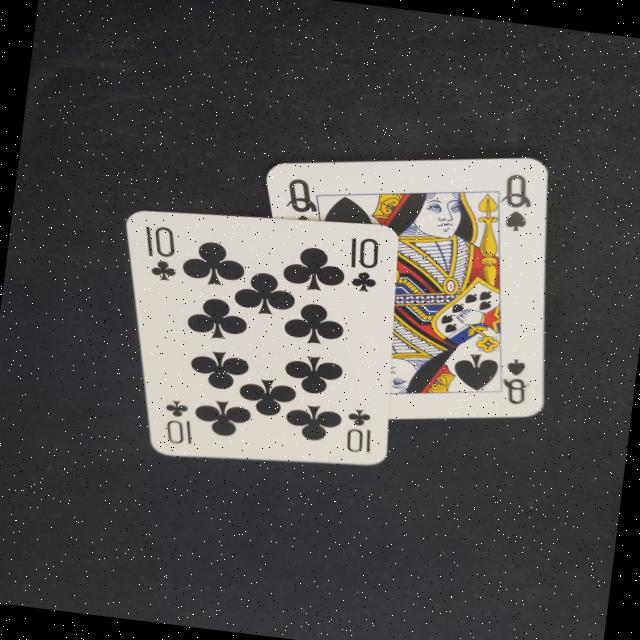10c: (132, 217, 185, 286), (337, 230, 385, 297), (156, 395, 203, 448), (335, 401, 379, 456)
Qs: (488, 168, 539, 237), (492, 354, 536, 408)
